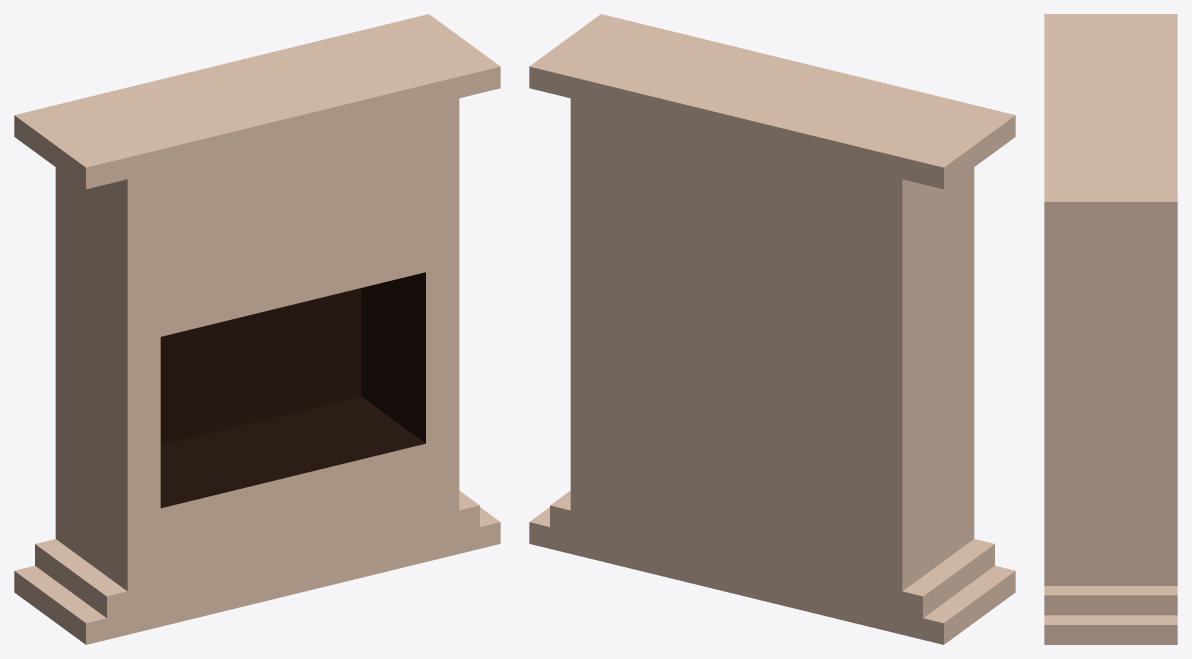
File: FIREPLACE.fbx
3 renders of one model, left to right at view 1: azimuth 30°, elevation 25°; view 2: azimuth 150°, elevation 25°; view 3: azimuth 270°, elevation 25°, orthographic. The views are drawn at different scales.
Parts seen in each view (by area): view 1: Cube.002, Cube.001; view 2: Cube.002; view 3: Cube.002.
Part boxes in pixels (x1,y1,x2,y2): Cube.002: (14, 14, 500, 644); Cube.001: (160, 272, 425, 508); Cube.002: (529, 14, 1015, 644); Cube.002: (1044, 14, 1177, 644).
Bounding box in the file's own units: 100 × 110 × 30.
